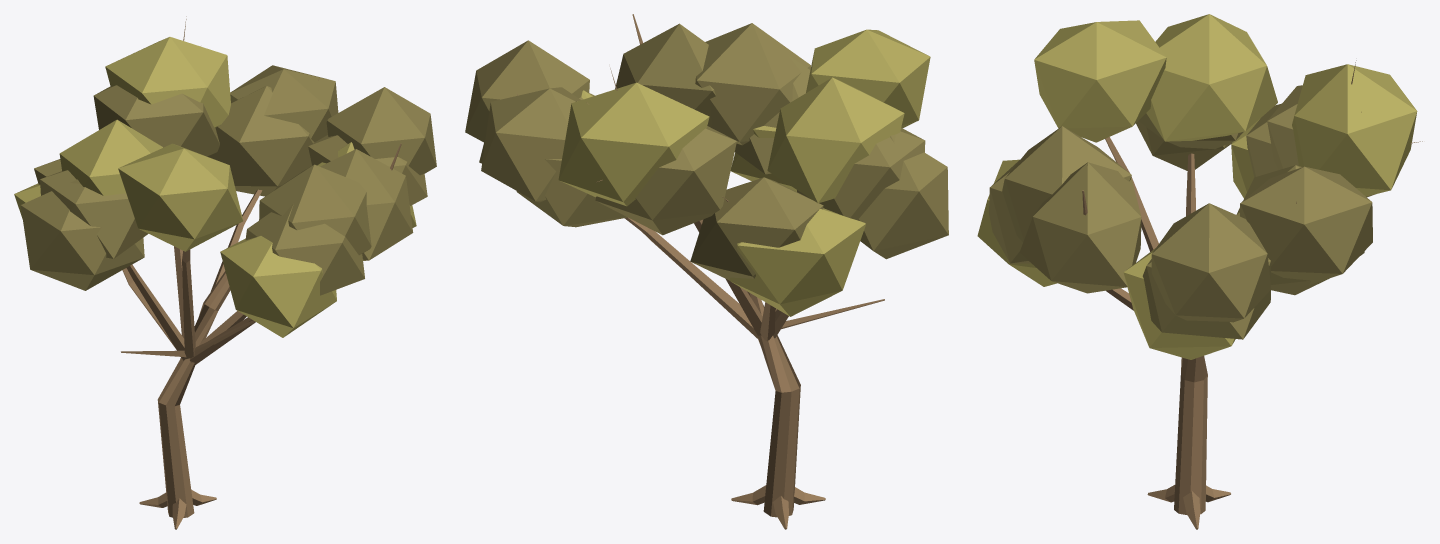
File: oak_autumn_early_03.glb
The picture shows the model from 3 angles, left to right: view 1: azimuth 30°, elevation 25°; view 2: azimuth 150°, elevation 25°; view 3: azimuth 270°, elevation 25°; orthographic projection. The views are drawn at different scales.
Parts seen in each view (by area): view 1: Oak_autumn_early_03; view 2: Oak_autumn_early_03; view 3: Oak_autumn_early_03.
Boxes of the visible parts, x1,y1,x2,y2 form: Oak_autumn_early_03: [14, 16, 436, 529]; Oak_autumn_early_03: [465, 14, 948, 529]; Oak_autumn_early_03: [977, 14, 1422, 529].
Size of the model in its own units: 13.76 by 13.8 by 11.28.
